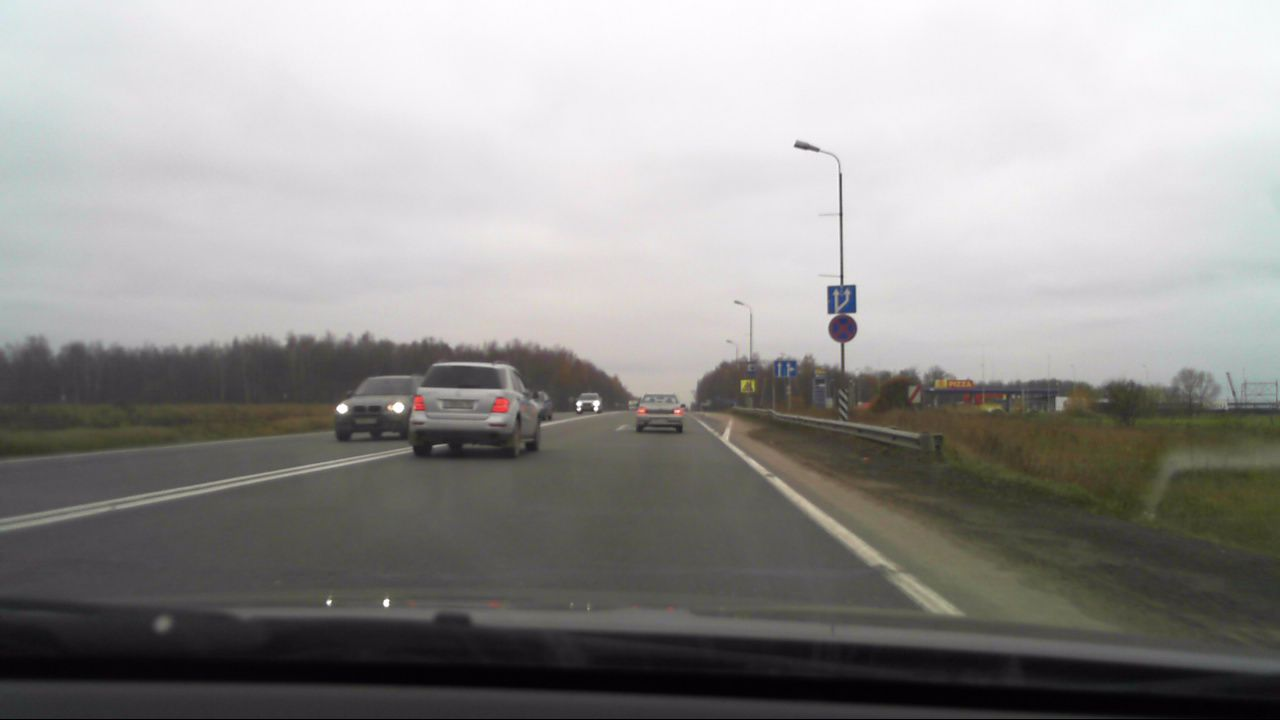No Parking: (827, 313, 858, 344)
